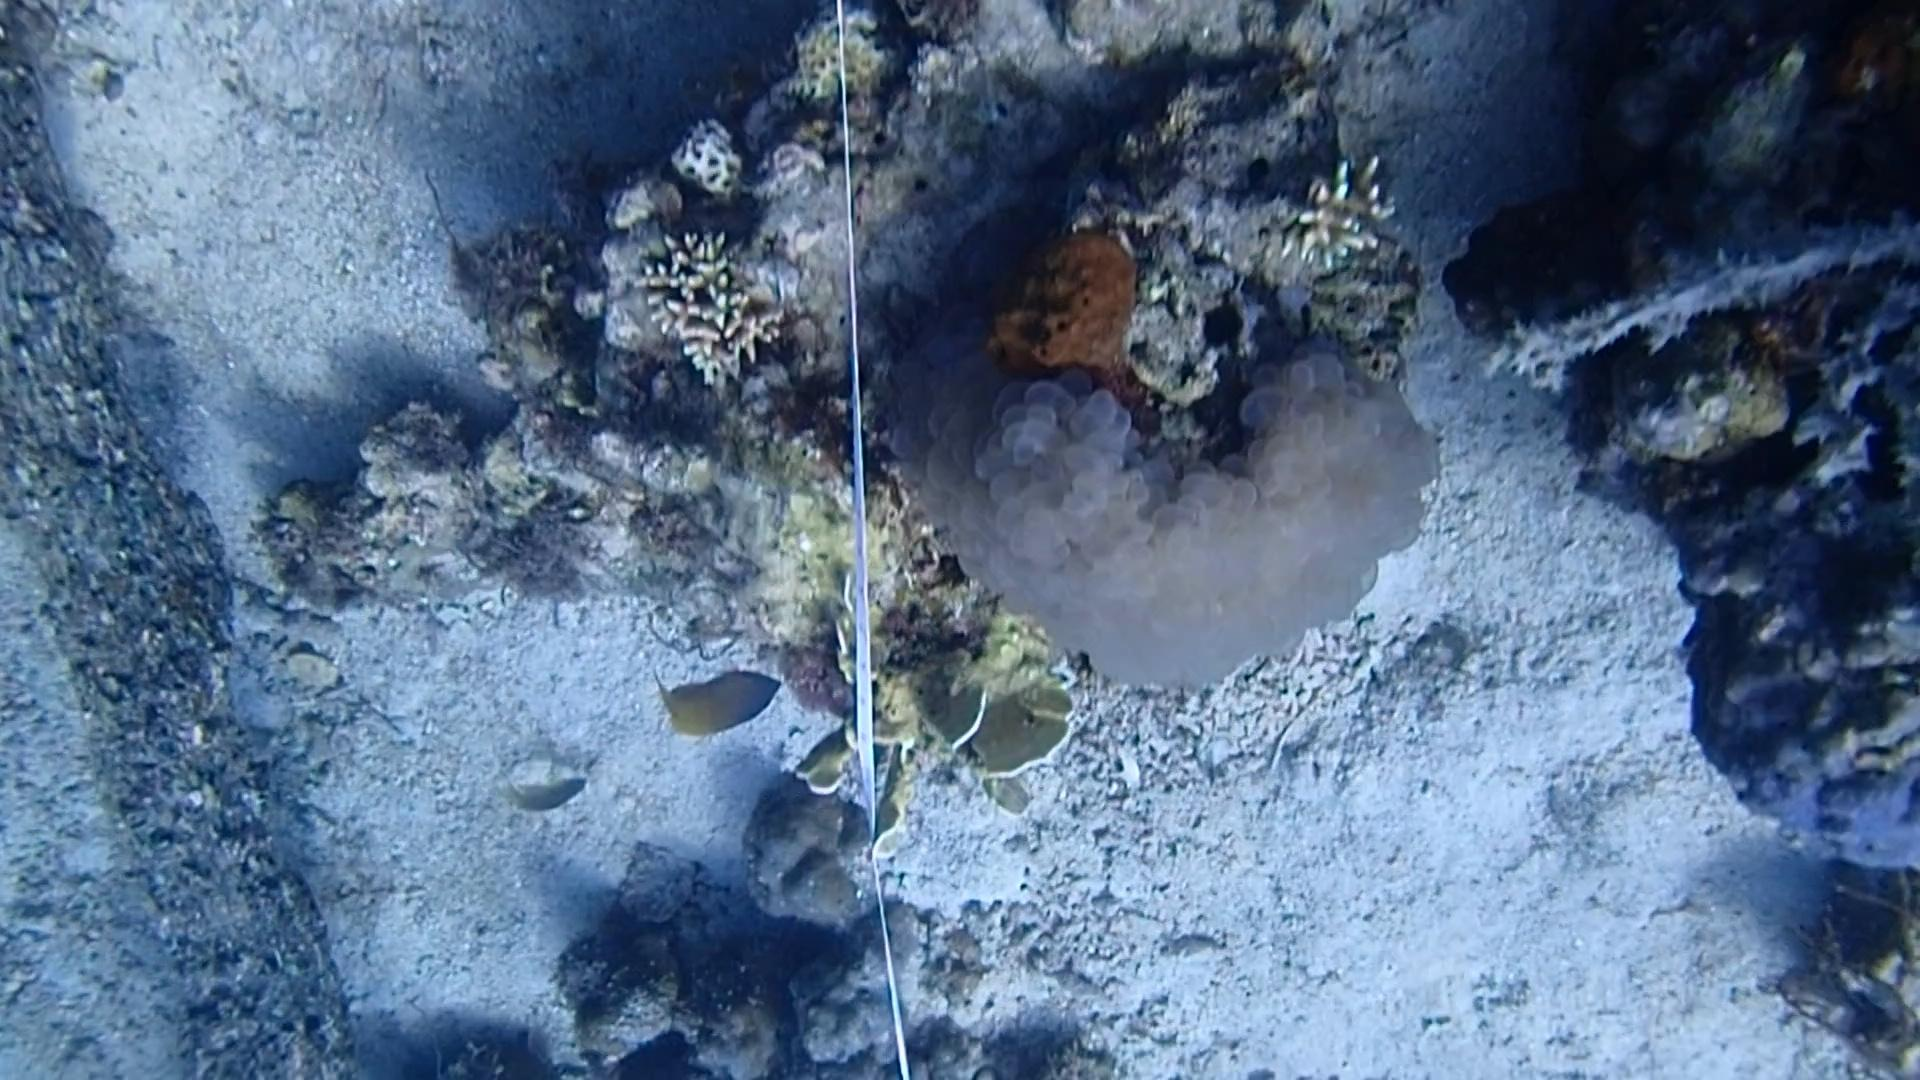Light Fish: (501, 762, 597, 823)
Yellow-Blue Fish: (653, 649, 793, 753)
